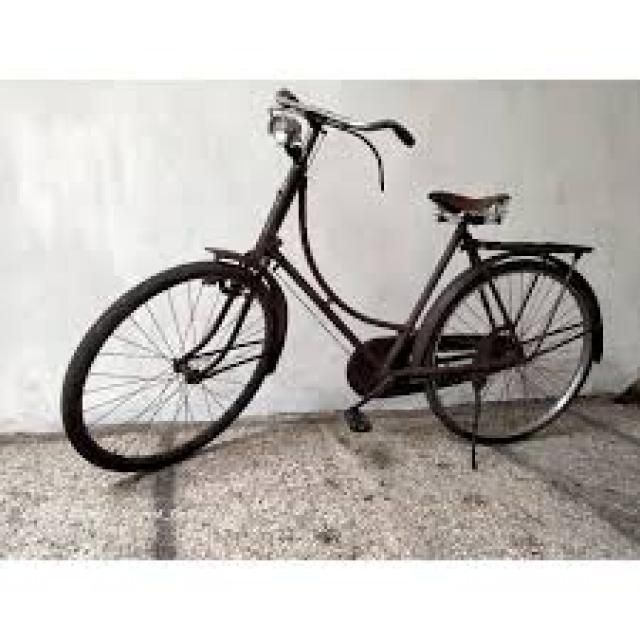bicycle: (69, 116, 599, 475)
